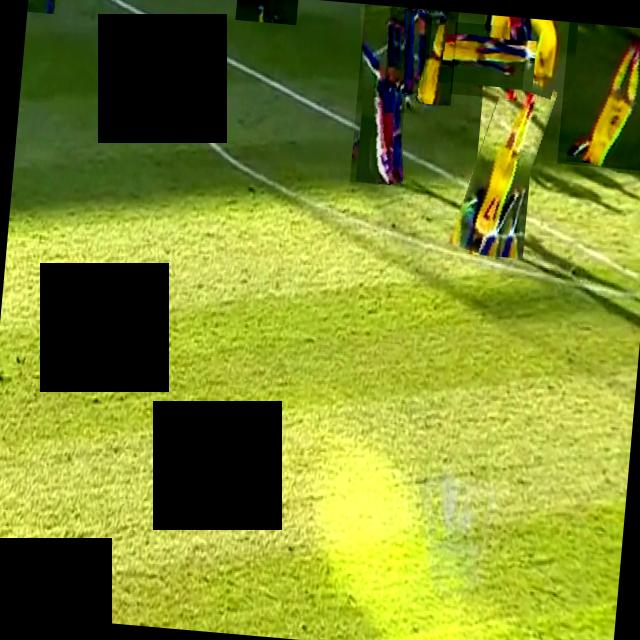soccer-player: (456, 71, 547, 260), (555, 20, 640, 170), (348, 2, 412, 184), (448, 21, 526, 98), (382, 5, 432, 93), (417, 8, 458, 104), (234, 0, 297, 23), (26, 0, 56, 12)
